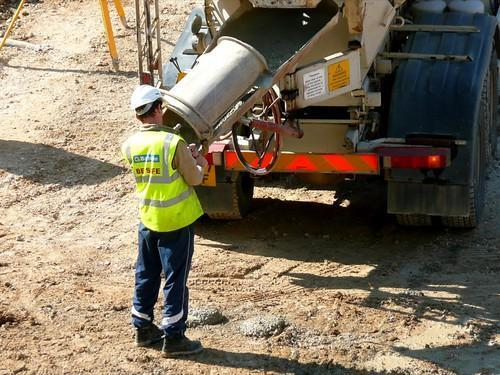vest: (120, 124, 205, 231)
